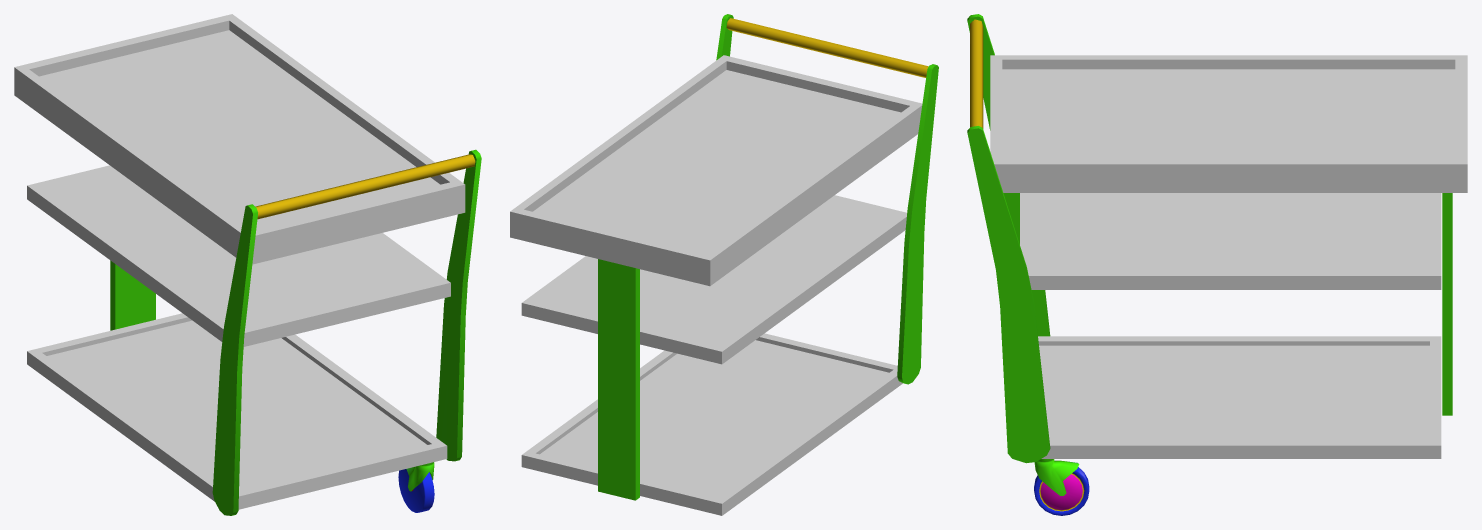
The model's file is Service_T.fbx.
The picture shows the model from 3 angles, left to right: view 1: azimuth 30°, elevation 25°; view 2: azimuth 150°, elevation 25°; view 3: azimuth 270°, elevation 25°; orthographic projection. The views are drawn at different scales.
Parts seen in each view (by area): view 1: Cube, wheel_1; view 2: Cube; view 3: Cube, wheel_1.
Part boxes in pixels (x1,y1,x2,y2): Cube: (14, 14, 481, 515); wheel_1: (398, 462, 434, 512); Cube: (510, 14, 938, 515); Cube: (967, 14, 1467, 463); wheel_1: (1034, 459, 1089, 515).
Bounding box in the file's own units: 59.17 × 95.37 × 109.
